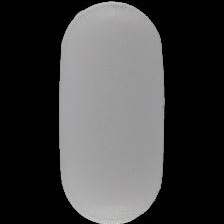16590-126: (0, 0, 224, 224)
